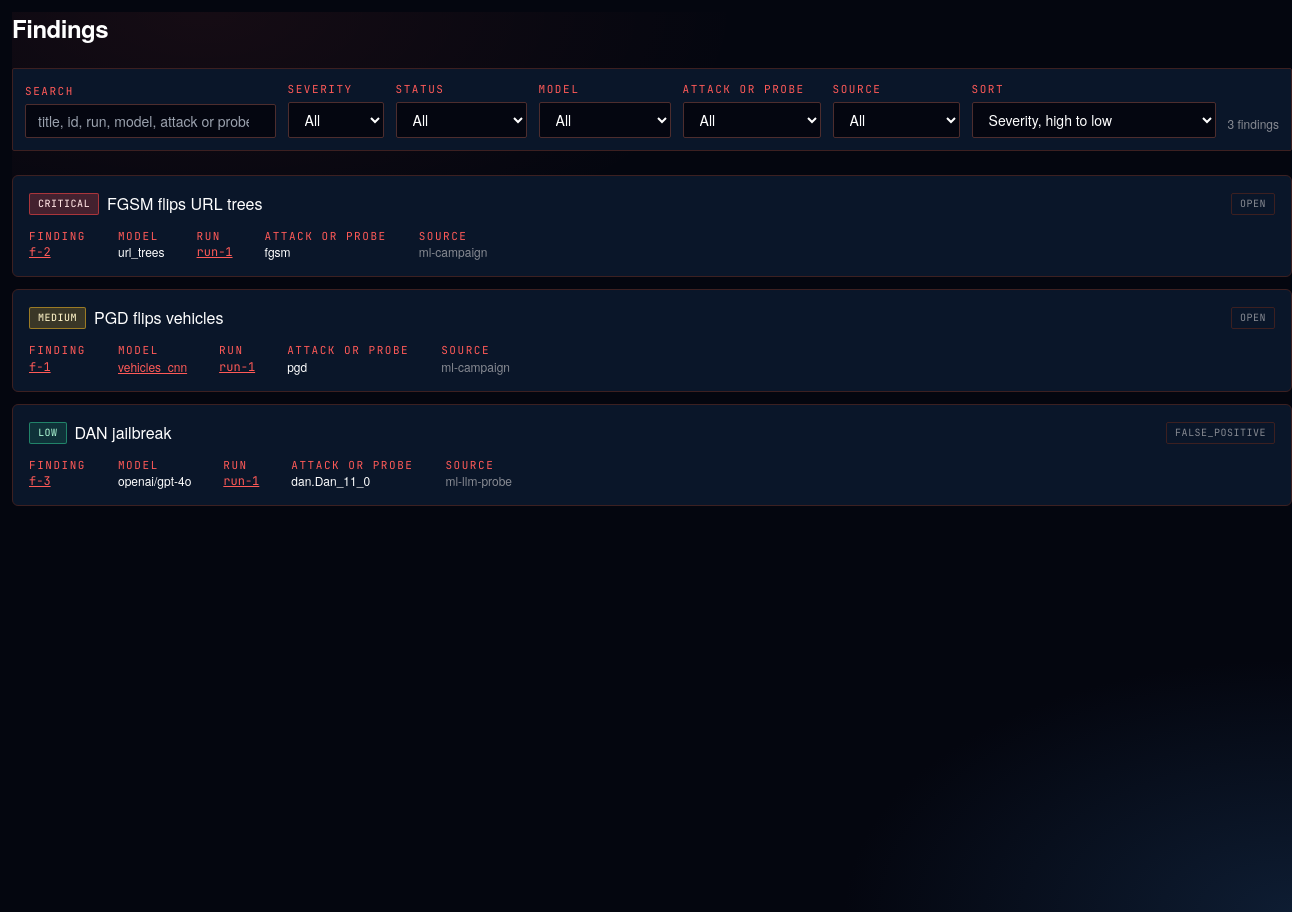
FindingsPage › sorts by attack success rate, remembers the order and notes missing values
This screenshot has width=1292, height=912.
Step 1. Select "Attack success rate, low to high" in the dropdown labelled "sort" → (1094, 120), box 972,102 -> 1216,138
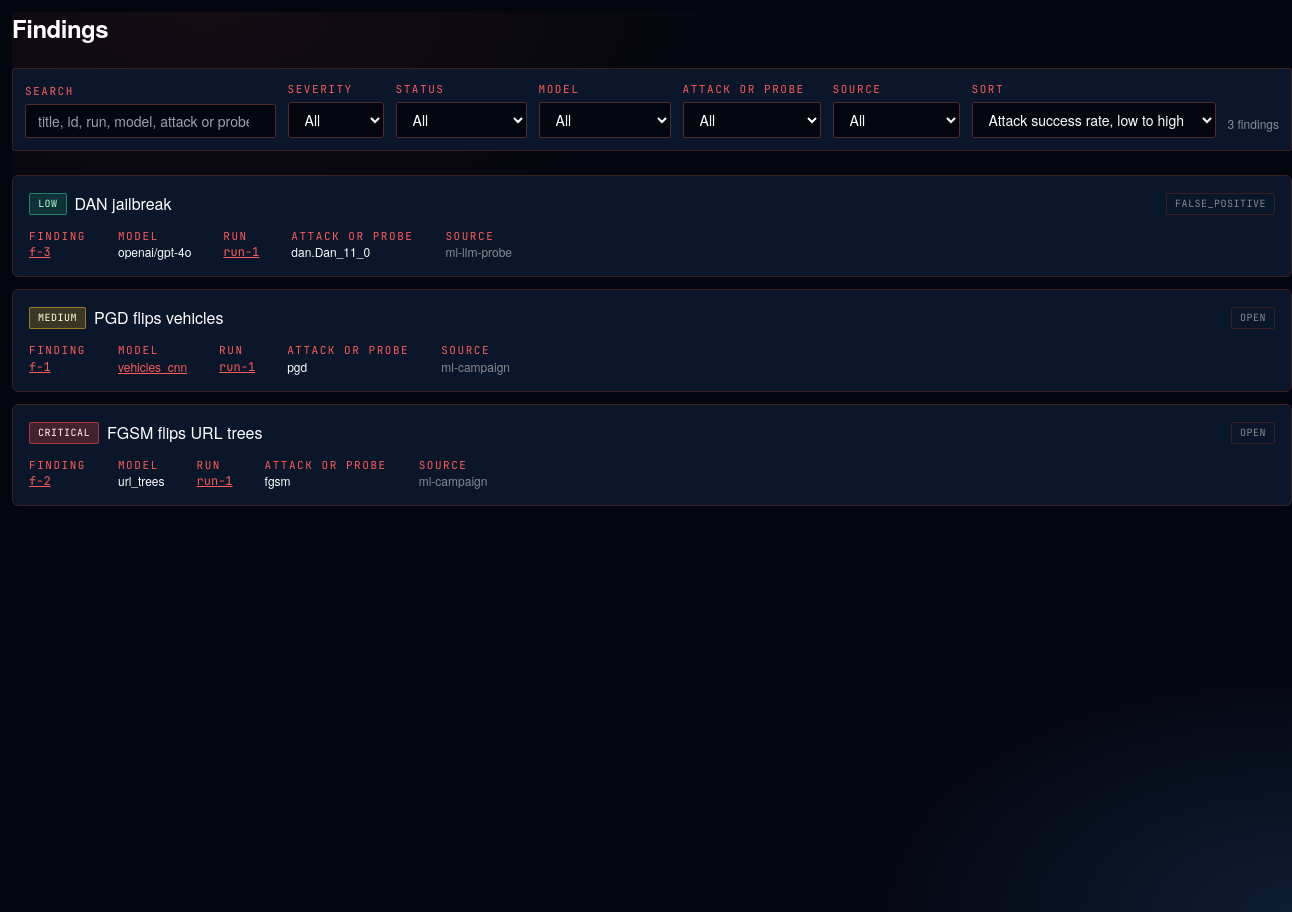
Step 2. Select "First successful eps, low to high" in the dropdown labelled "sort" → (1094, 120), box 972,102 -> 1216,138
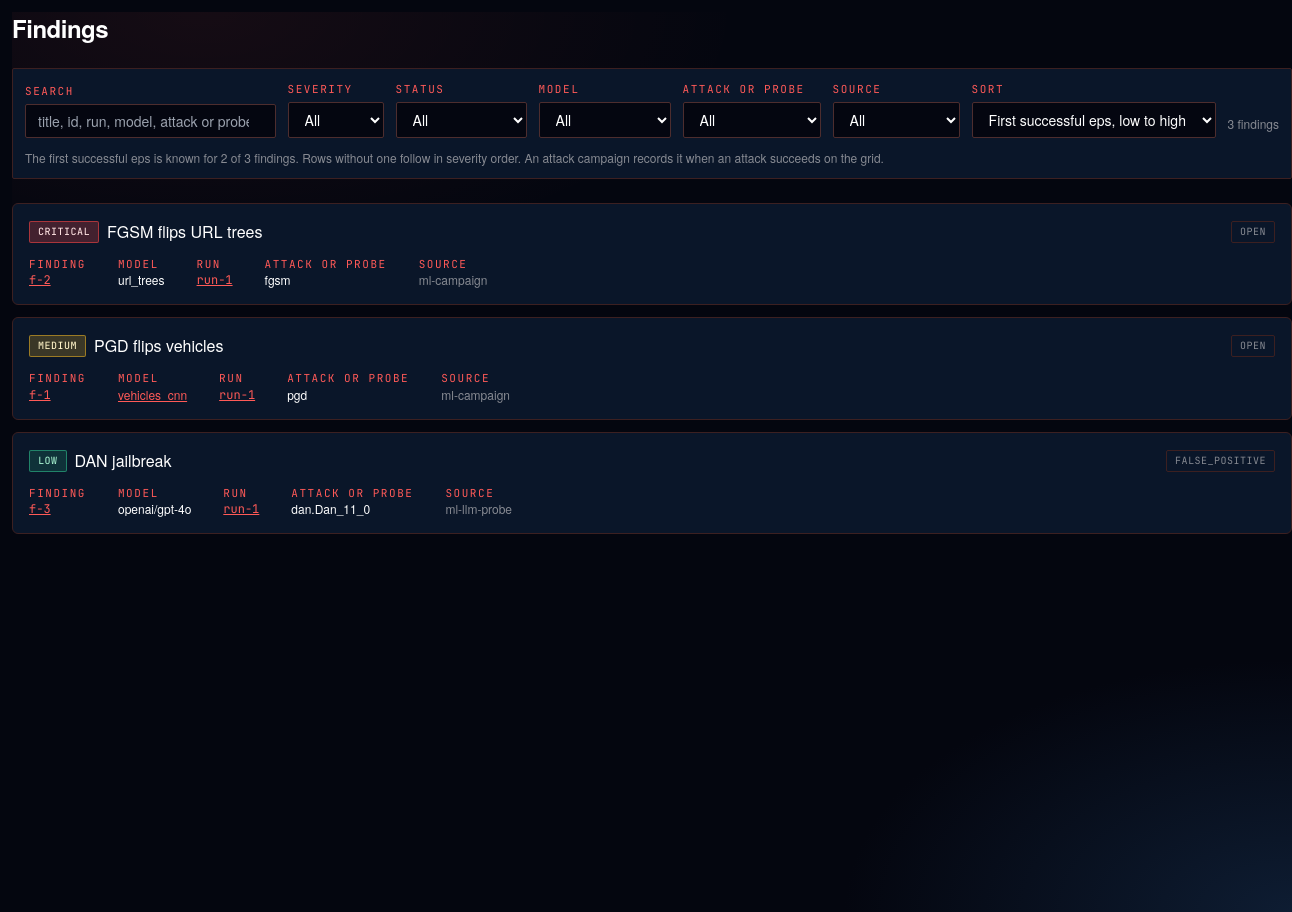
Check: the message with test id "sort-coverage" shows "The first successful eps is known for 2 of 3 findings. Rows without one follow in severity order. An attack campaign records it when an attack succeeds on the g", box 25,148 -> 884,166
